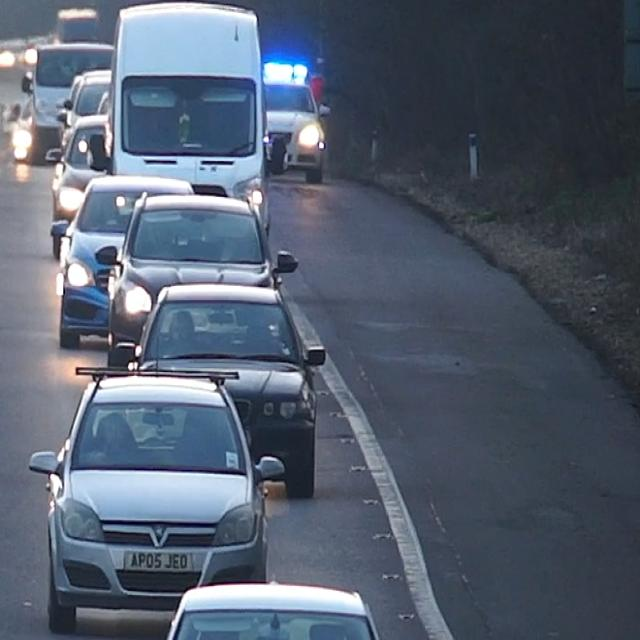Autre: (124, 551, 195, 572)
